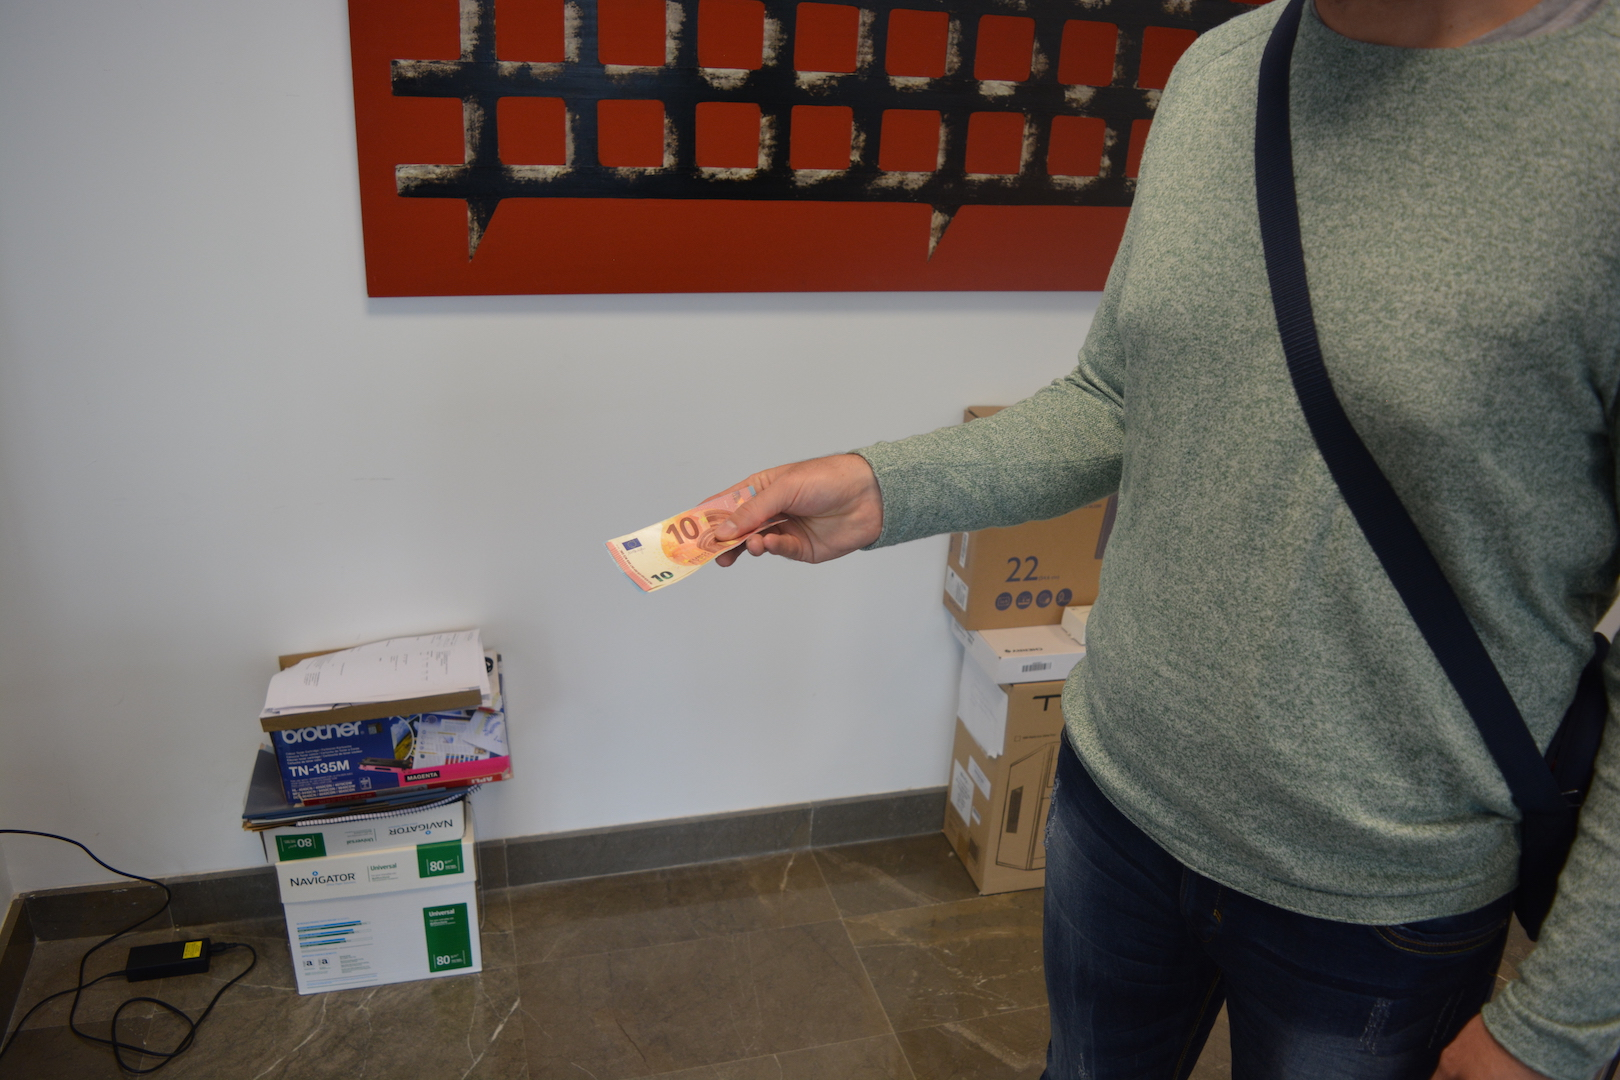billete: (605, 486, 790, 594)
